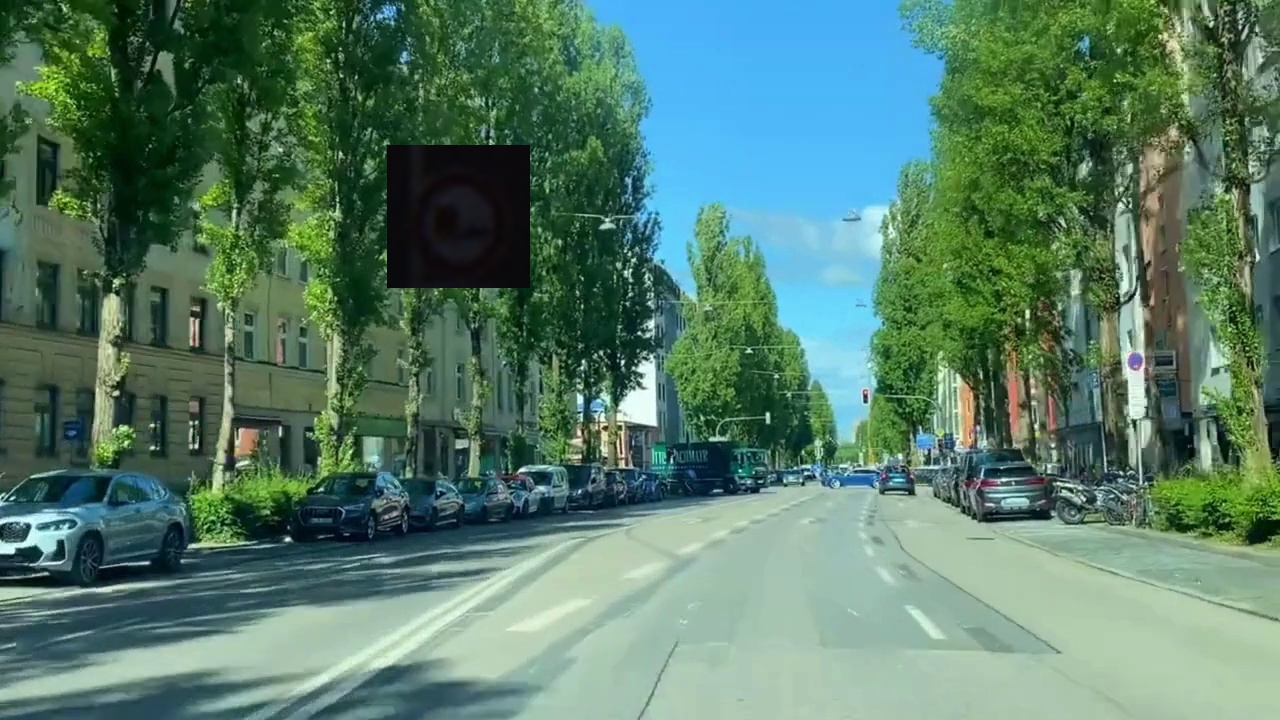No pass >3.5t: (387, 145, 530, 288)
